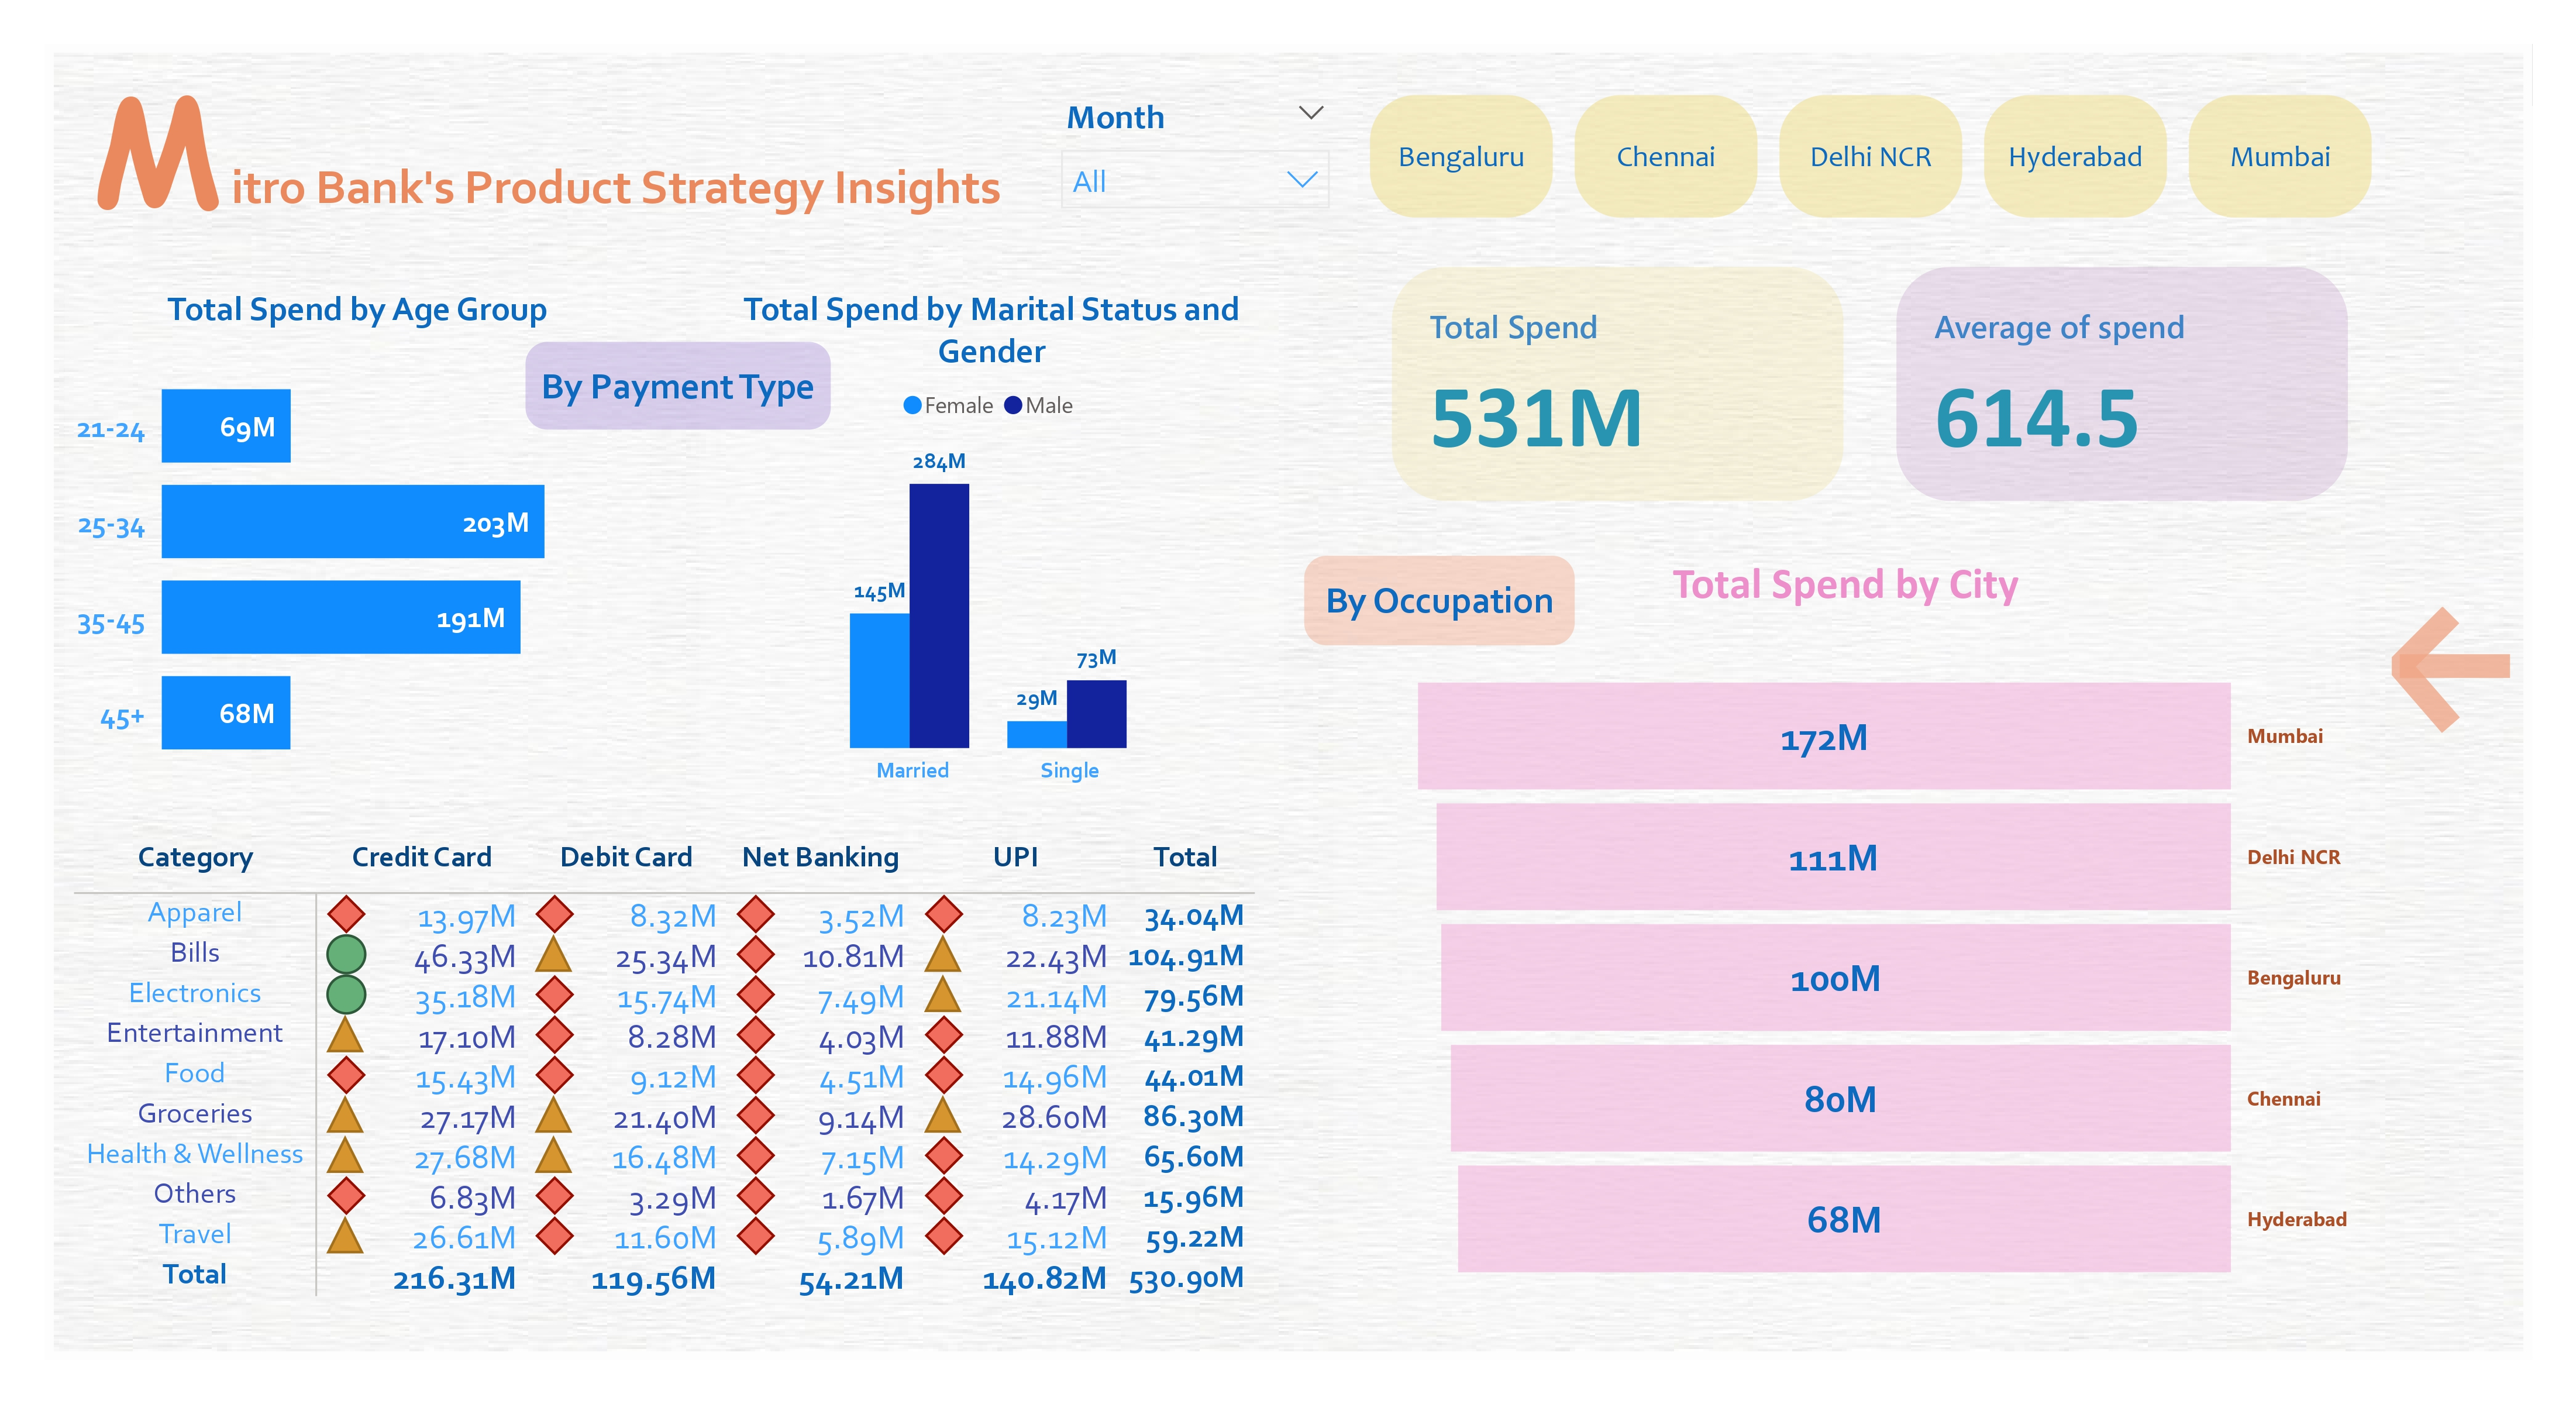

The dashboard page shown, as its layout file describes it:
{"tool":"powerbi","page":{"name":"Spend","canvas":[1361,720],"ordinal":2},"visuals":[{"type":"textbox","title":"M","box":[14.7,0,93,99],"z":0,"group":"g2"},{"type":"cardVisual","fields":{"Data":["fact_spends.Total Spend"]},"box":[732.2,117.4,256.7,138.1],"z":0,"group":"g1"},{"type":"textbox","title":"itro Bank''s Product Strategy Insights","box":[96.7,62.1,446.1,35.6],"z":1000,"group":"g2"},{"type":"image","box":[0,0,1361.1,720],"z":8000},{"type":"cardVisual","fields":{"Data":["Avg(fact_spends.spend)"]},"box":[1008.5,117.4,256.7,138.1],"z":9000},{"type":"group","id":"g1","title":"Group 2","box":[732.2,117.4,256.7,138.1],"z":10000},{"type":"advancedSlicerVisual","fields":{"Values":["dim_customers.city"]},"box":[720,23.2,559.9,77],"z":11000},{"type":"slicer","fields":{"Values":["fact_spends.month"]},"box":[546.4,23.2,166.2,75.8],"z":12000},{"type":"pivotTable","fields":{"Rows":["fact_spends.category"],"Columns":["fact_spends.payment_type"],"Values":["fact_spends.Total Spend"]},"box":[11,430.3,693.1,289.7],"z":15000},{"type":"clusteredBarChart","title":"Total Spend by City","fields":{"Y":["fact_spends.Total Spend"],"Category":["dim_customers.city"]},"box":[705.3,279.9,561.1,424.2],"z":16000},{"type":"actionButton","box":[689.5,280.1,147.1,48.6],"z":18000},{"type":"group","id":"g2","title":"Group 3","box":[14.7,0,528.1,99],"z":19000},{"type":"actionButton","box":[1279.9,304.4,80.7,77],"z":20000},{"type":"clusteredBarChart","fields":{"Category":["dim_customers.age_group"],"Y":["fact_spends.Total Spend"]},"box":[11,133.2,320.3,281.2],"z":21000},{"type":"clusteredColumnChart","fields":{"Category":["dim_customers.marital status"],"Y":["fact_spends.Total Spend"],"Series":["dim_customers.gender"]},"box":[358.2,133.2,320.3,281.2],"z":22000},{"type":"actionButton","box":[262.8,162.6,167.5,48.9],"z":23000}]}

Visuals, with their boxes on the page's 1361x720 design canvas (x1, y1, x2, y2). These are canvas units, not pixel positions in the 2576x1404 screenshot, which may show the page scaled, cropped or inside an application window:
"M" textbox: bbox=[15, 0, 108, 99]
cardVisual - fact_spends.Total Spend: bbox=[732, 117, 989, 256]
"itro Bank''s Product Strategy Insights" textbox: bbox=[97, 62, 543, 98]
image: bbox=[0, 0, 1361, 720]
cardVisual - Avg(fact_spends.spend): bbox=[1008, 117, 1265, 256]
"Group 2" group: bbox=[732, 117, 989, 256]
advancedSlicerVisual - dim_customers.city: bbox=[720, 23, 1280, 100]
slicer - fact_spends.month: bbox=[546, 23, 713, 99]
pivotTable - fact_spends.category x fact_spends.payment_type: bbox=[11, 430, 704, 720]
"Total Spend by City" clusteredBarChart: bbox=[705, 280, 1266, 704]
actionButton: bbox=[690, 280, 837, 329]
"Group 3" group: bbox=[15, 0, 543, 99]
actionButton: bbox=[1280, 304, 1361, 381]
clusteredBarChart - dim_customers.age_group x fact_spends.Total Spend: bbox=[11, 133, 331, 414]
clusteredColumnChart - dim_customers.marital status x fact_spends.Total Spend: bbox=[358, 133, 678, 414]
actionButton: bbox=[263, 163, 430, 212]
